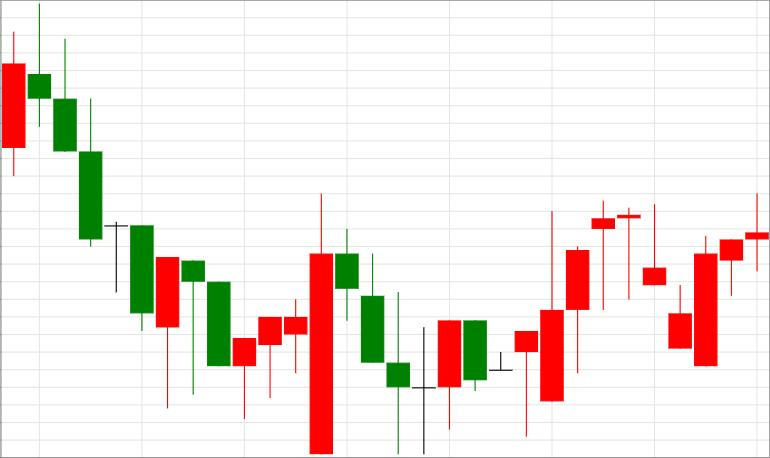hammer_rise: (28, 3, 256, 419)
